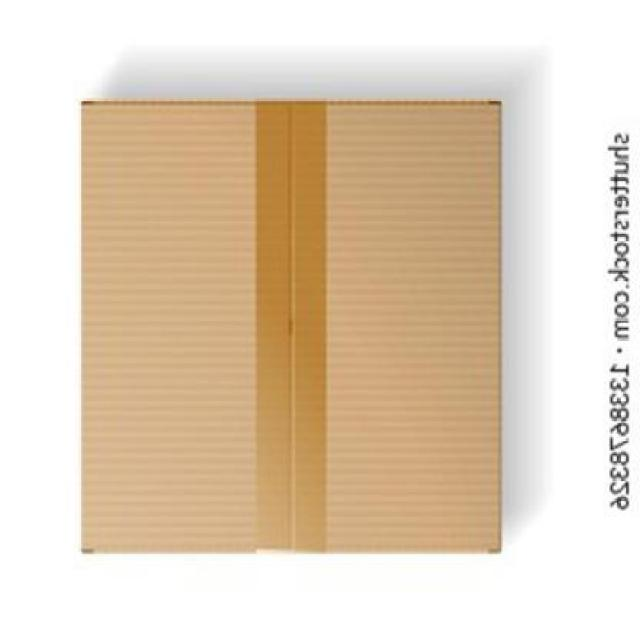normal: (71, 88, 509, 557)
